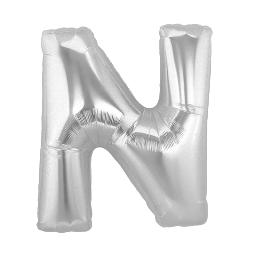n: (30, 18, 222, 238)
